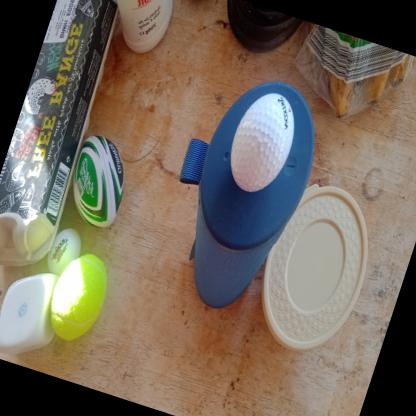Cube: (0, 256, 76, 371)
Golf: (216, 82, 308, 202)
Rugby: (57, 128, 141, 234)
Tabel Tennis: (38, 222, 87, 284)
Tennis: (34, 242, 120, 360)
